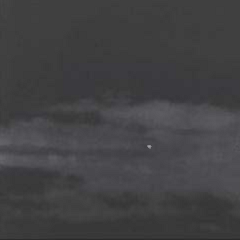Target: (145, 144, 152, 149)
